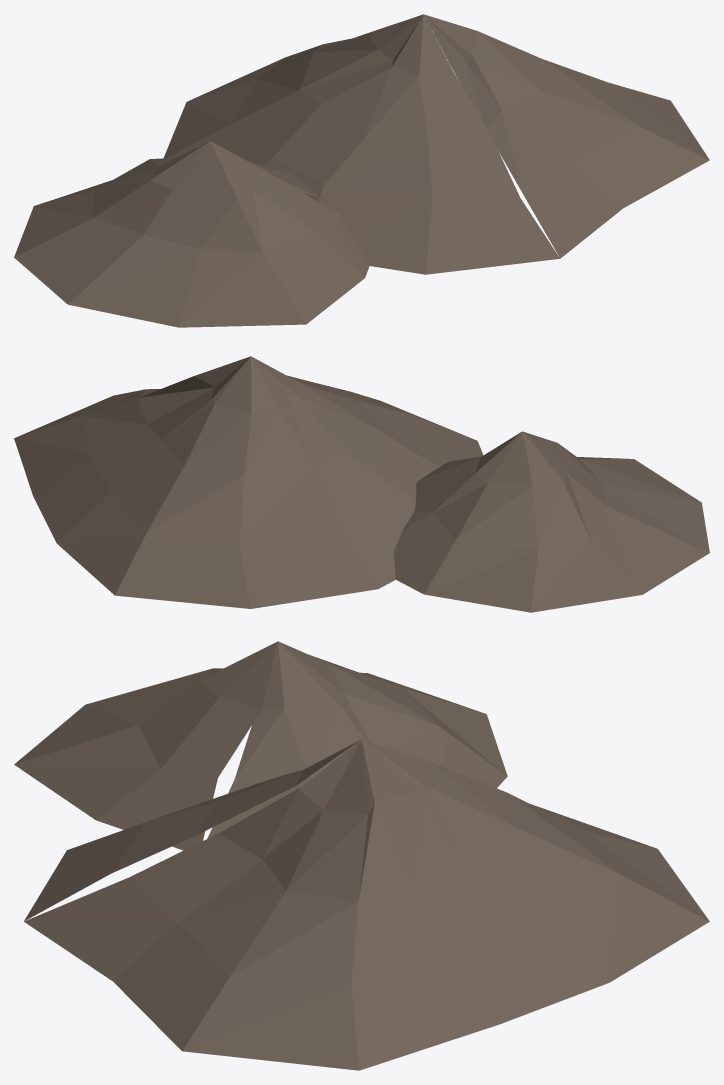
The model's file is mountain-far-c.glb.
3 renders of one model, top to bottom at view 1: azimuth 30°, elevation 25°; view 2: azimuth 150°, elevation 25°; view 3: azimuth 270°, elevation 25°, orthographic. The views are drawn at different scales.
Parts seen in each view (by area): view 1: rockdark; view 2: rockdark; view 3: rockdark.
Part boxes in pixels (x1,y1,x2,y2): rockdark: [14, 14, 709, 327]; rockdark: [14, 356, 709, 612]; rockdark: [14, 641, 709, 1070].
Bounding box in the file's own units: 256 × 53.96 × 187.
